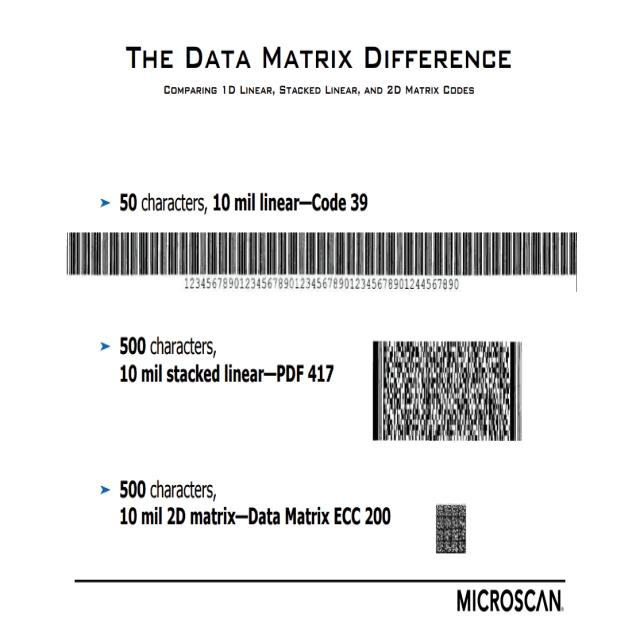datamatrix: (434, 499, 469, 558)
